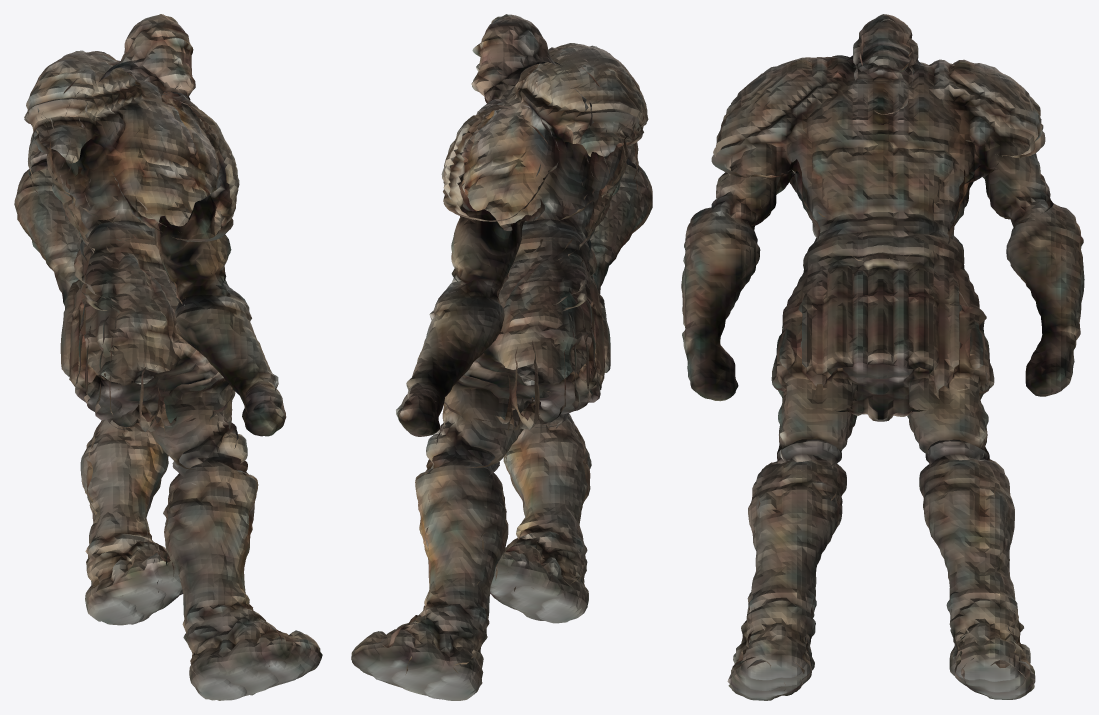
The model's file is talos_clean_hq.glb.
3 views of the same model, side by side, from view 1: azimuth 30°, elevation 25°; view 2: azimuth 150°, elevation 25°; view 3: azimuth 270°, elevation 25° (orthographic). The views are drawn at different scales.
Parts seen in each view (by area): view 1: meshsave_00003_.obj; view 2: meshsave_00003_.obj; view 3: meshsave_00003_.obj.
Boxes of the visible parts, x1=… form: meshsave_00003_.obj: x1=14, y1=14, x2=322, y2=700; meshsave_00003_.obj: x1=351, y1=14, x2=652, y2=700; meshsave_00003_.obj: x1=681, y1=14, x2=1084, y2=700.
Bounding box in the file's own units: 0.3046 × 0.9681 × 0.5413.
